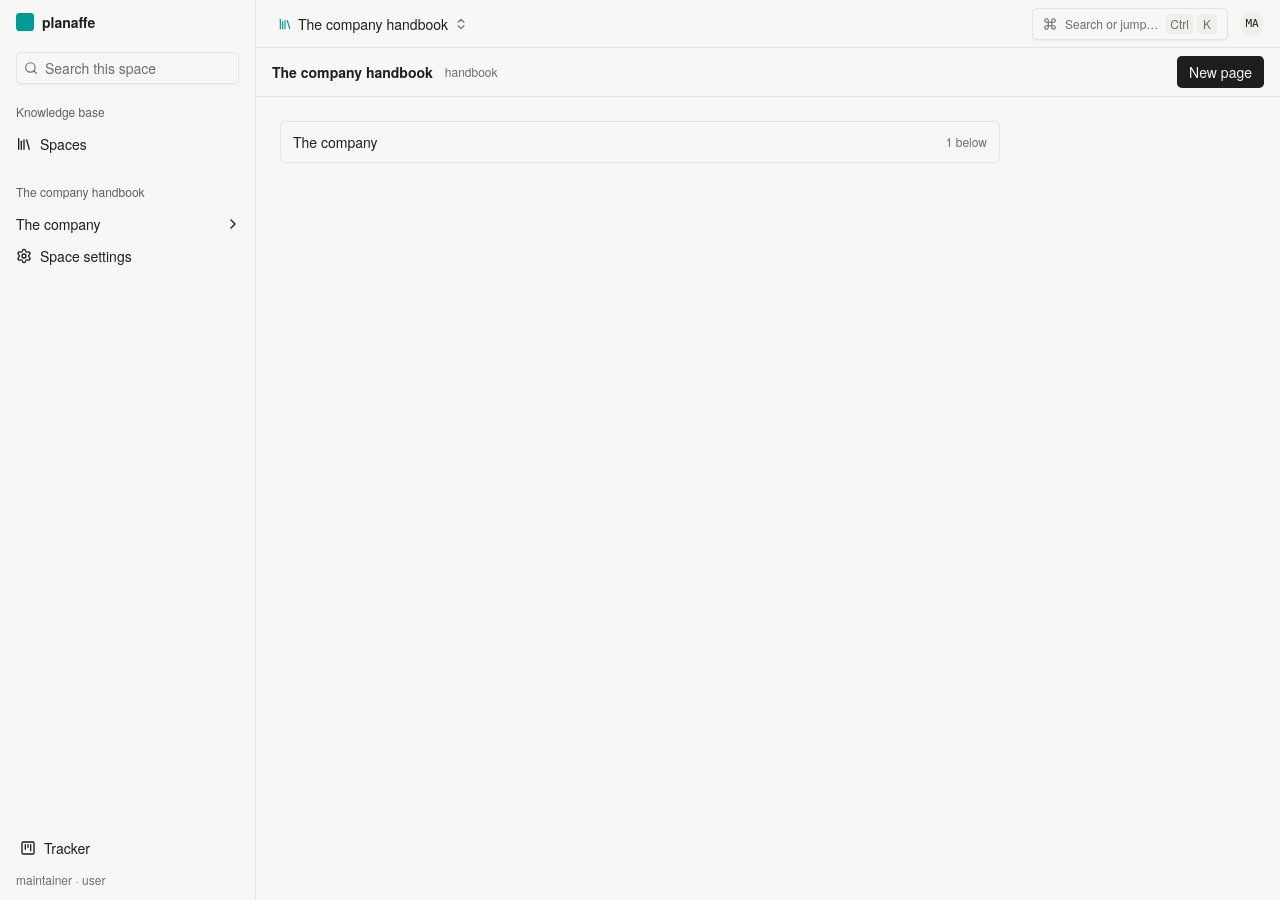
Test case: the search across the knowledge base (VISION 18) › writes what is typed into the address, and searches the space it is standing in
Type "onboarding" into the search field named "Search handbook". click: coordinates (128, 68)
box: [16,52,239,84]
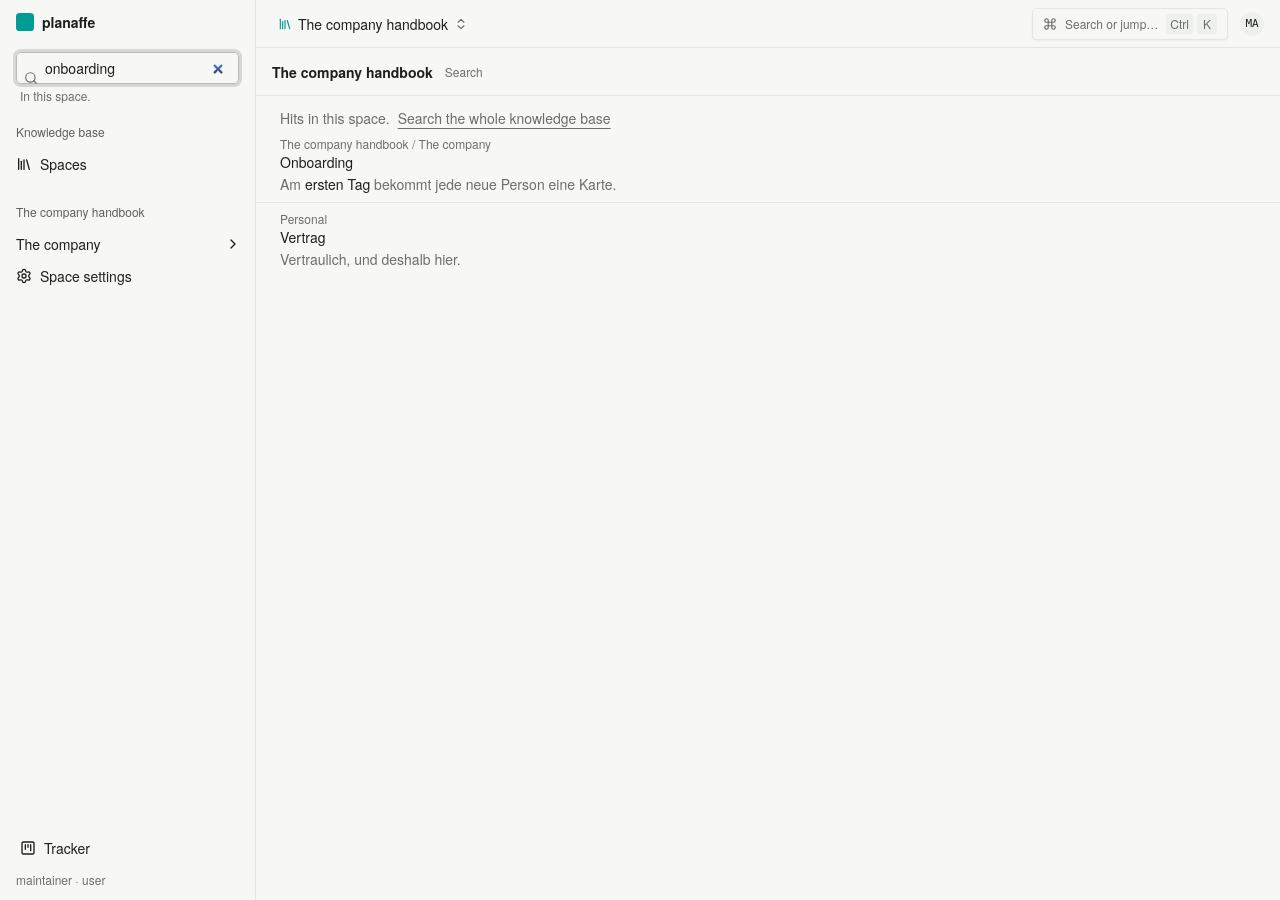
Expected: the list named "Hits" is shown, [256,128,1279,277]
Expected: the text "Hits in this space." is shown, [280,108,390,128]
